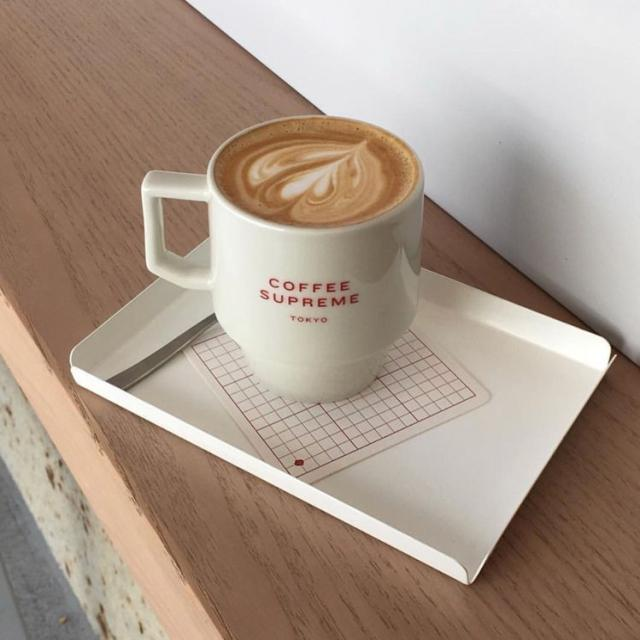glass cup: (141, 113, 425, 404)
